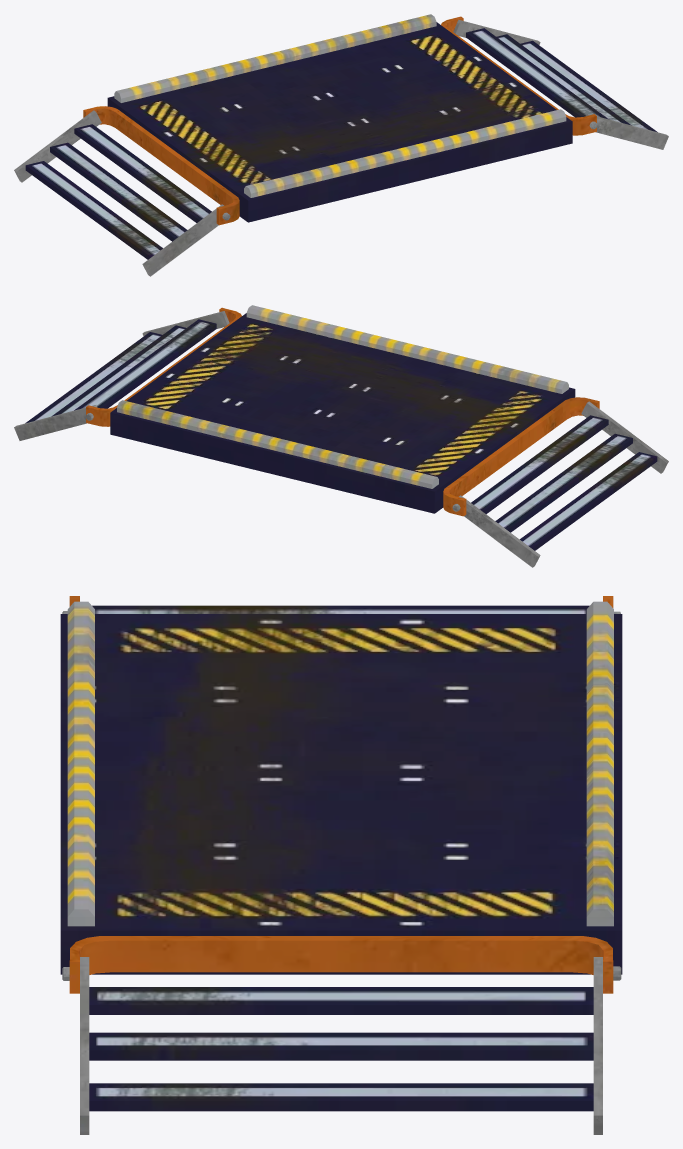
Rendered from catwalk-bridge.glb.
3 renders of one model, top to bottom at view 1: azimuth 30°, elevation 25°; view 2: azimuth 150°, elevation 25°; view 3: azimuth 270°, elevation 25°, orthographic. The views are drawn at different scales.
Parts seen in each view (by area): view 1: Object_2; view 2: Object_2; view 3: Object_2.
Boxes of the visible parts, x1,y1,x2,y2 form: Object_2: [14, 14, 668, 276]; Object_2: [14, 305, 668, 567]; Object_2: [60, 596, 622, 1134].
Bounding box in the file's own units: 6.46 × 0.7703 × 3.
Materials: 1 (1 with a texture image).
